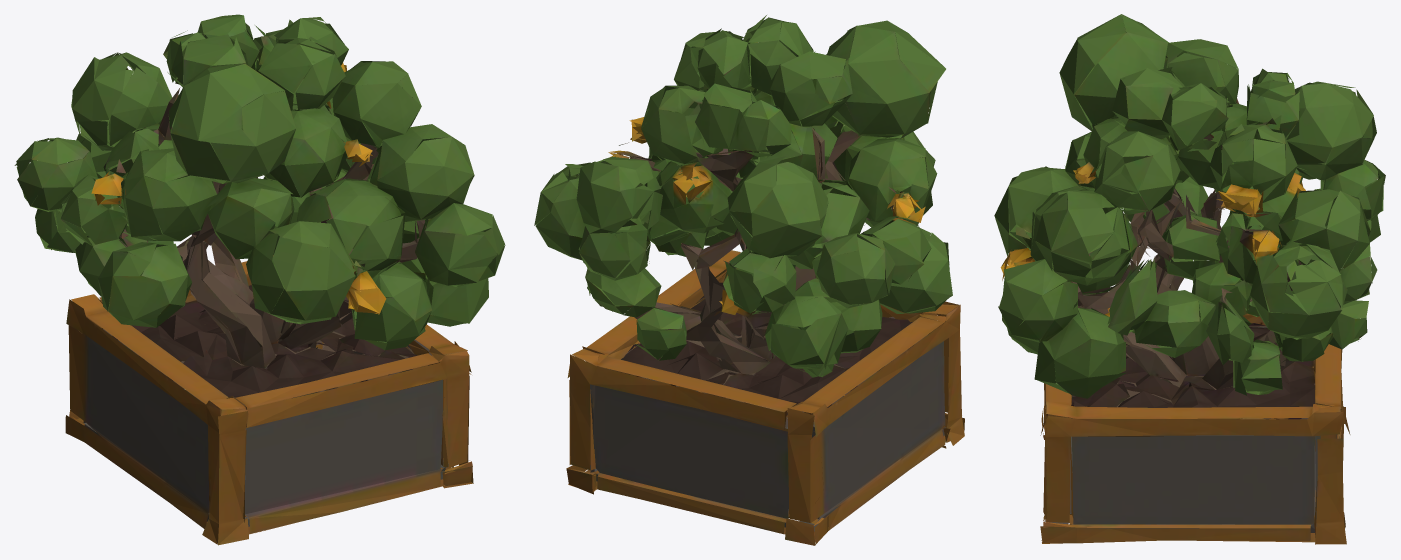
Rendered from plante-b.glb.
3 renders of one model, left to right at view 1: azimuth 30°, elevation 25°; view 2: azimuth 150°, elevation 25°; view 3: azimuth 270°, elevation 25°, orthographic. The views are drawn at different scales.
Visible parts, largest first — view 1: plante-b; view 2: plante-b; view 3: plante-b.
Part boxes in pixels (x1,y1,x2,y2): plante-b: [14, 14, 505, 545]; plante-b: [534, 15, 964, 545]; plante-b: [994, 14, 1385, 544].
Bounding box in the file's own units: 1.22 × 1.4 × 1.16.
Materials: 1 (1 with a texture image).
